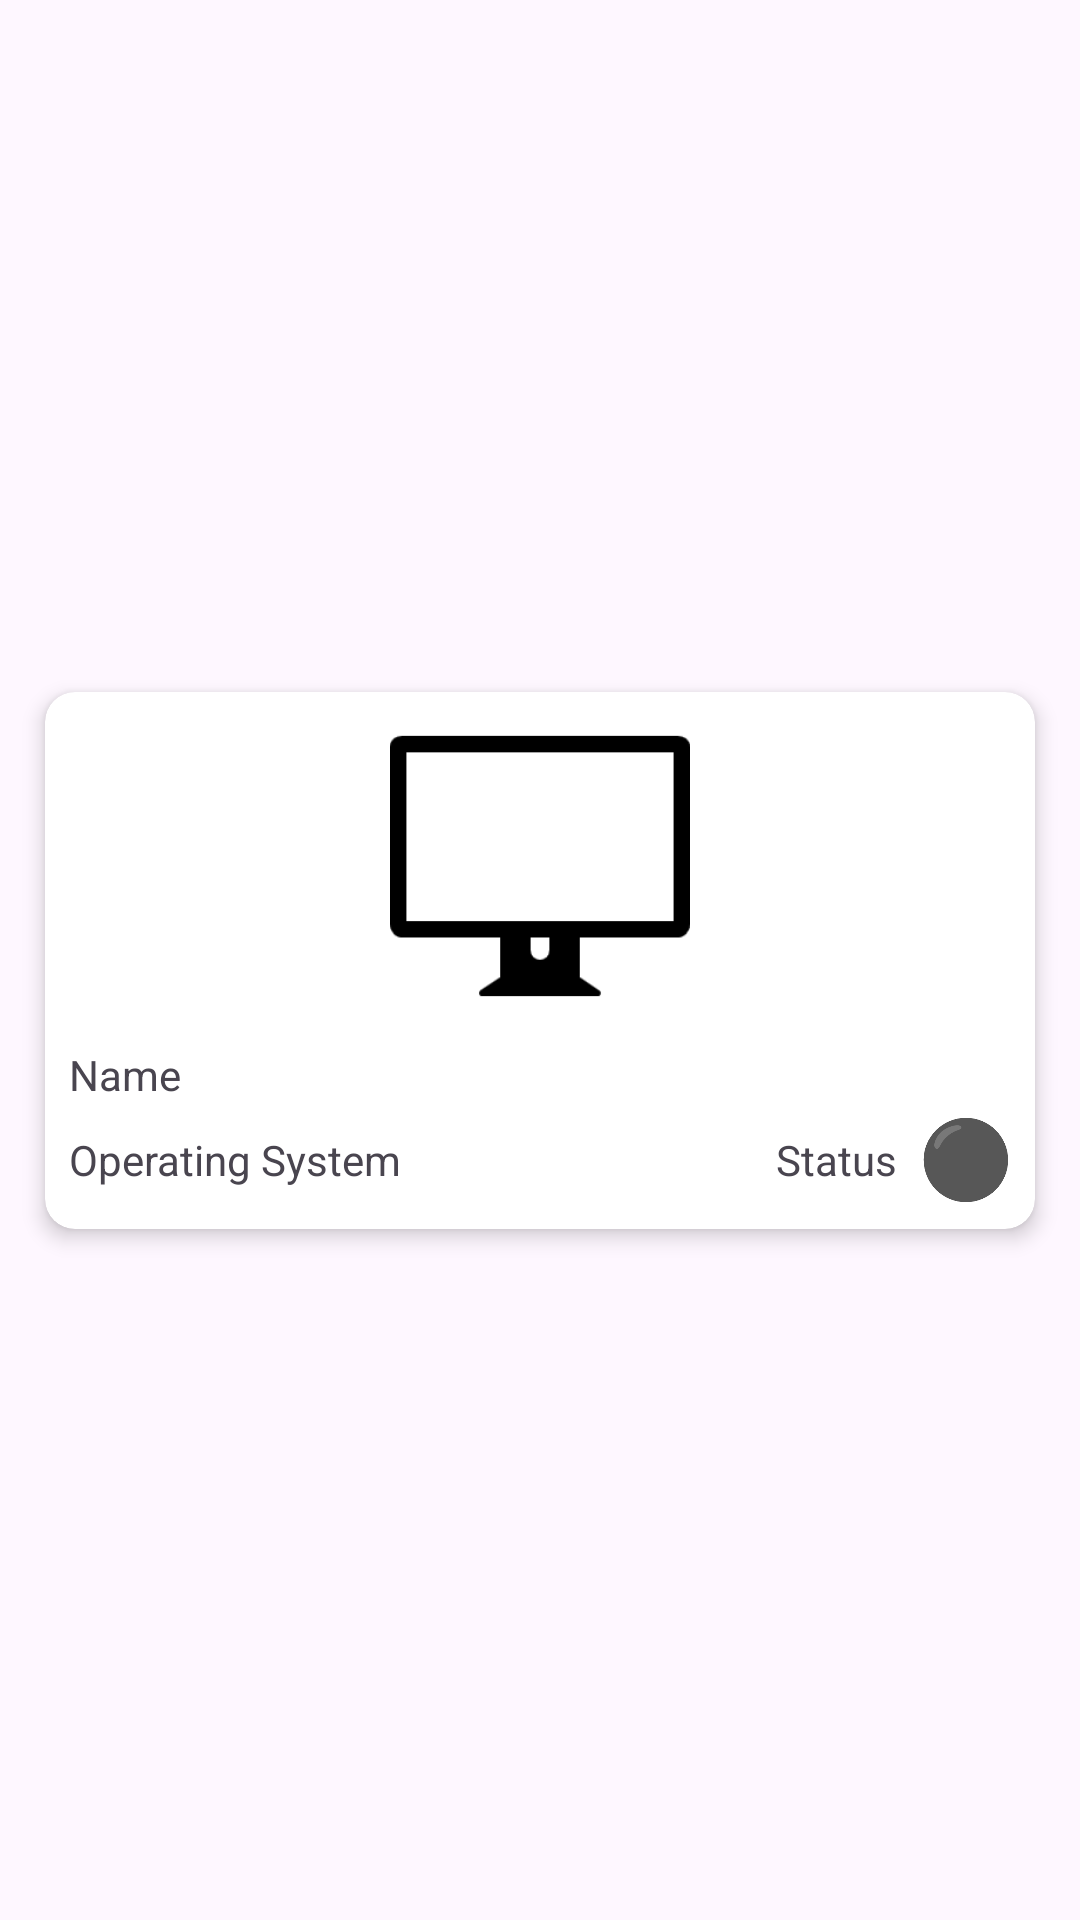

Icons on this 1080px×1920px Android screen, each with its box as (x1, y1, x2, y2):
computer: (390, 735, 690, 997)
